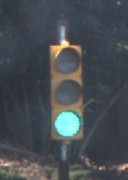Green: (44, 40, 94, 148)
